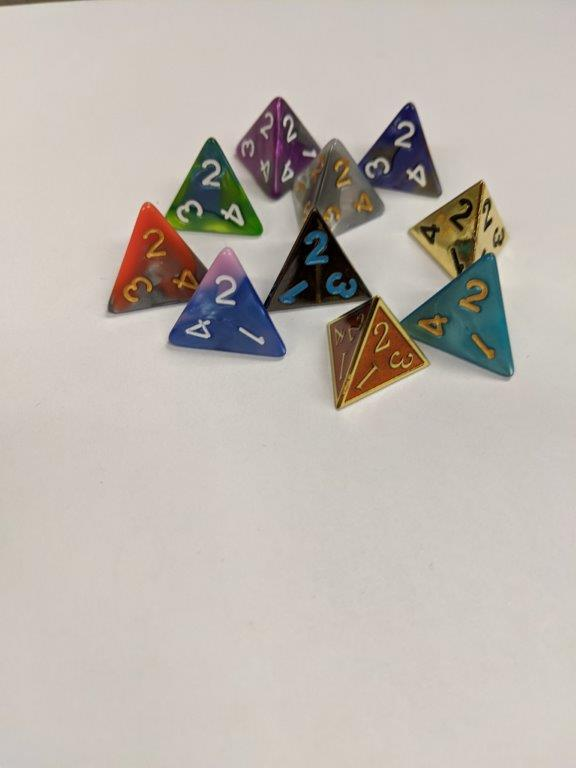d4-2: (402, 250, 518, 382), (170, 240, 284, 360), (406, 172, 519, 282), (97, 197, 202, 310), (332, 294, 427, 412), (261, 208, 371, 307), (165, 137, 267, 239), (289, 139, 388, 237), (231, 94, 319, 197), (358, 99, 447, 199)
